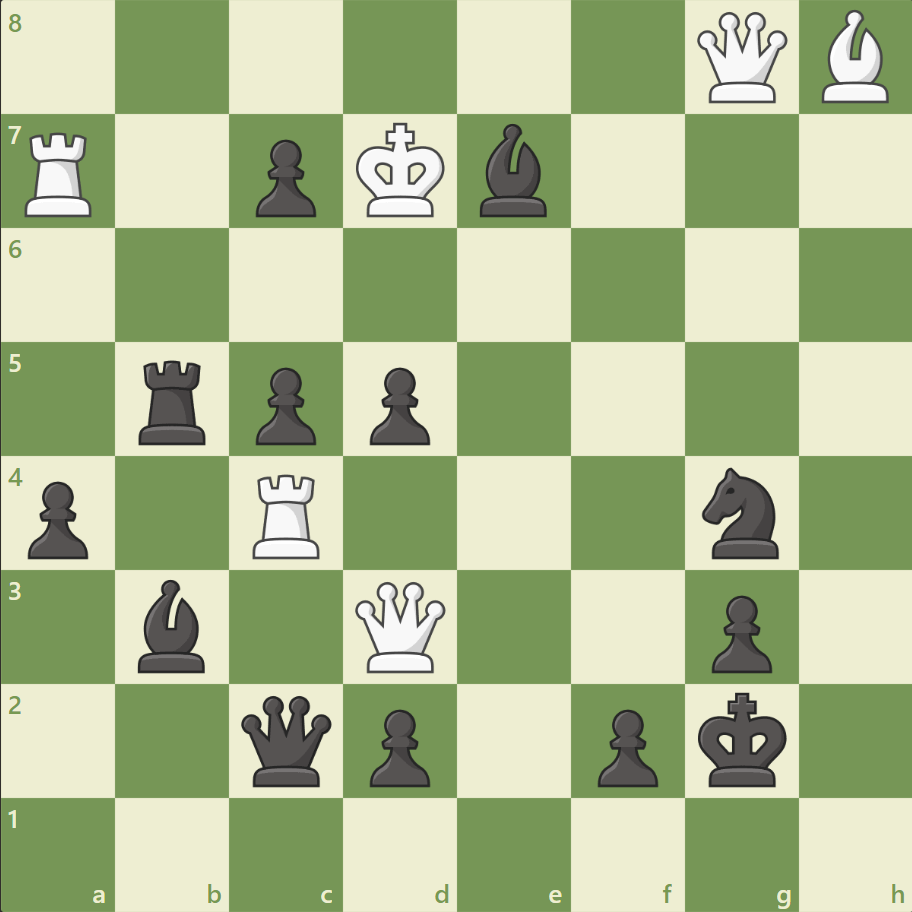B: (812, 6, 896, 109)
K: (351, 117, 451, 225)
Q: (351, 576, 450, 676), (691, 9, 790, 108)
R: (19, 125, 102, 222), (246, 466, 329, 563)
b: (471, 120, 555, 222), (131, 574, 215, 676)
k: (692, 685, 792, 793)
n: (692, 461, 789, 564)
p: (247, 132, 322, 223), (247, 359, 322, 450), (20, 473, 95, 564), (701, 586, 776, 677), (361, 359, 435, 450), (361, 700, 435, 791), (588, 700, 662, 791)
q: (237, 690, 336, 789)
r: (133, 352, 215, 449)
